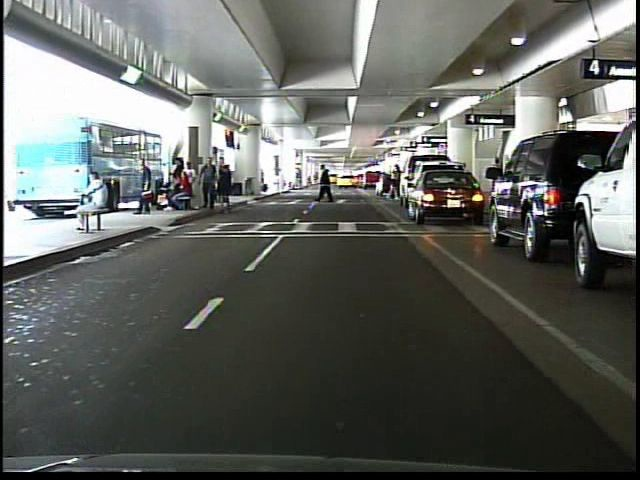person: (64, 165, 111, 236), (129, 152, 156, 218), (316, 163, 339, 208), (386, 161, 401, 200)
